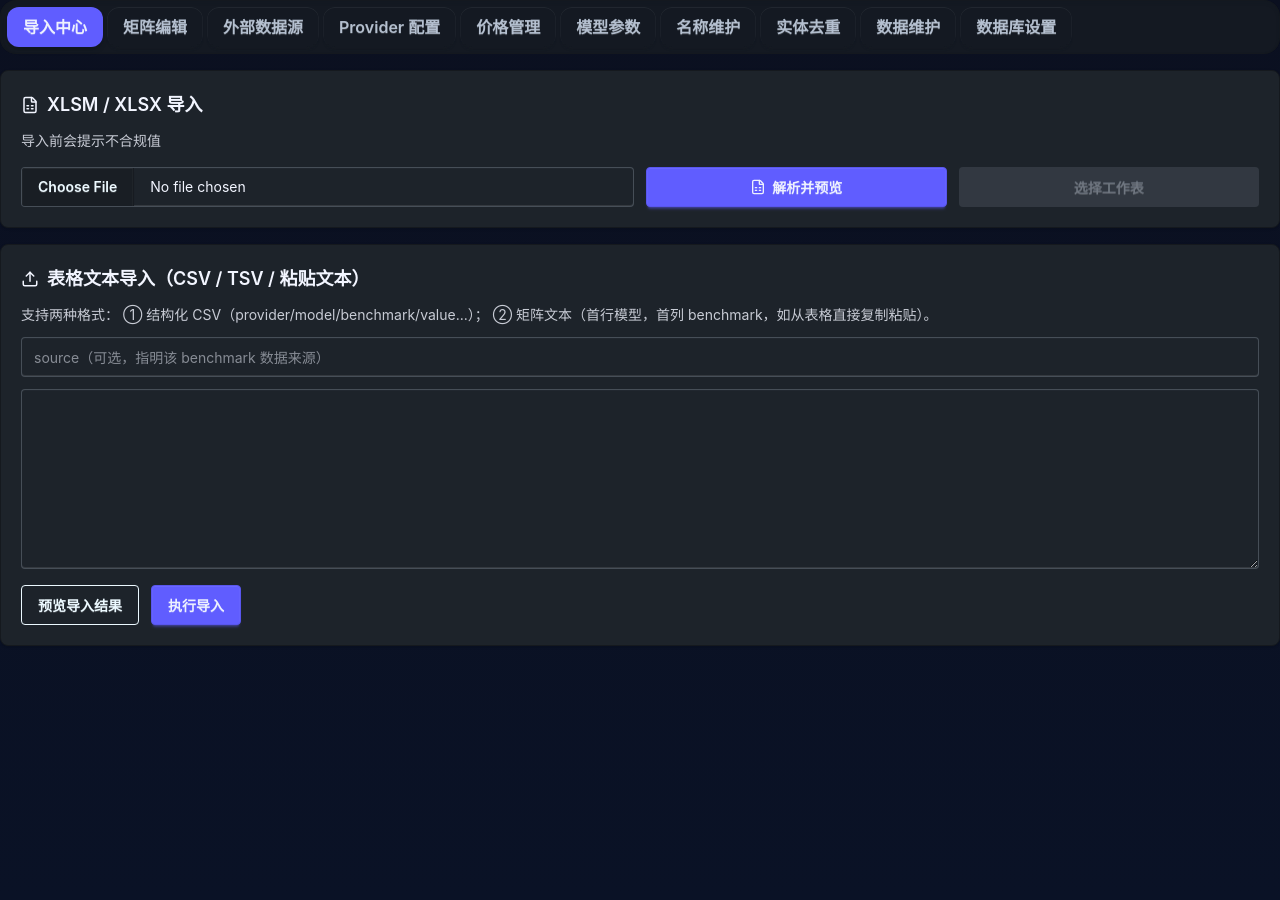
AdminConsole text import › 价格管理列表前端按模型添加时间（modelCreatedAt）倒序显示
Click the tab "价格管理" at point(508, 27), box [460,7,556,47]
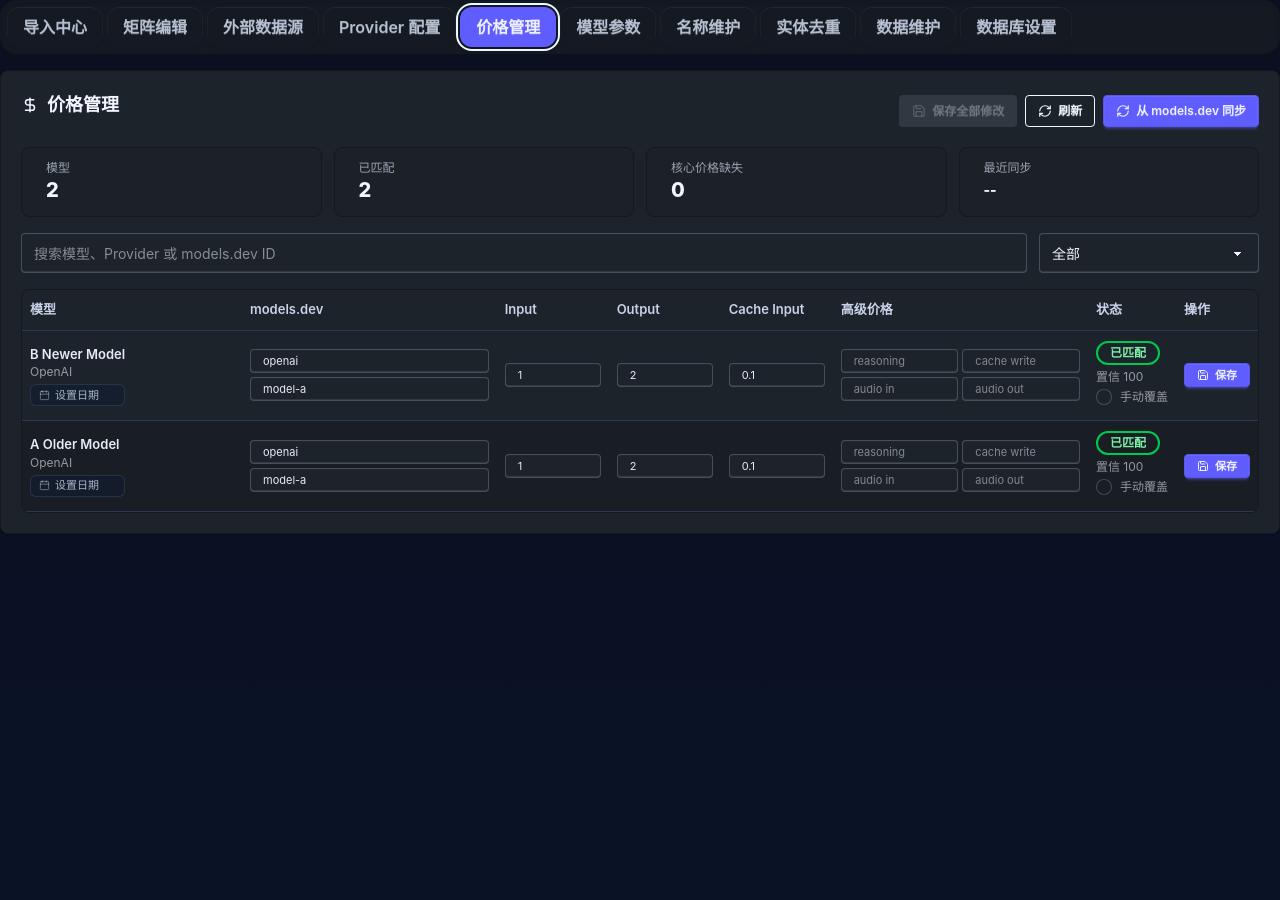
Check: the text "B Newer Model" is shown, box [30,344,125,364]
Check: the cell "B Newer Model OpenAI 设置日期" is shown, box [22,330,242,420]
